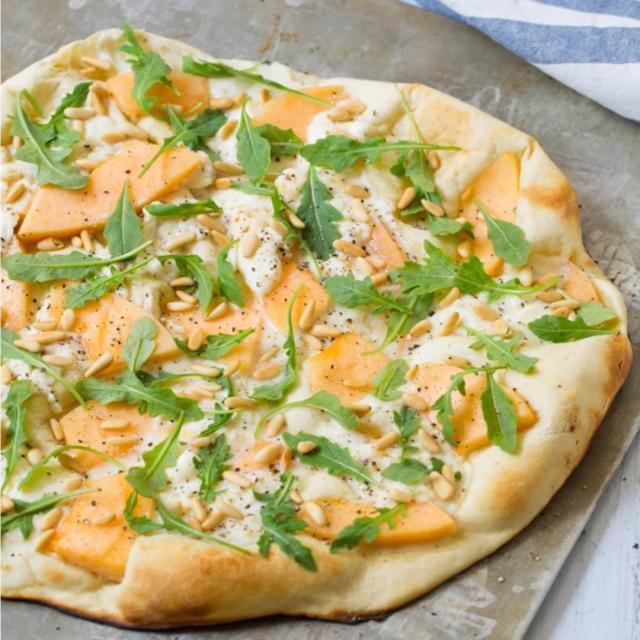pizza: (0, 28, 632, 633)
